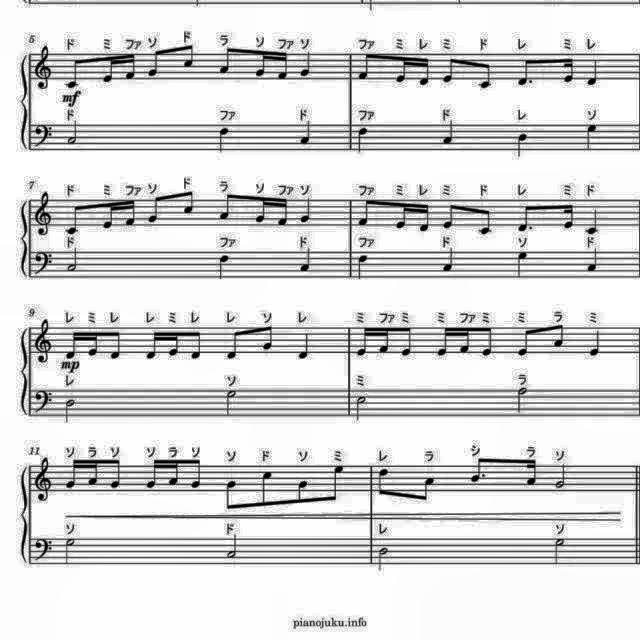Bass-clef: (30, 122, 54, 152), (30, 250, 54, 280), (31, 383, 54, 413), (31, 536, 54, 564)
Eighth-note: (324, 462, 348, 506), (258, 468, 278, 512), (224, 325, 246, 363), (514, 55, 538, 89), (220, 478, 242, 514), (63, 201, 85, 237), (63, 54, 85, 90), (416, 472, 439, 506), (468, 455, 492, 485), (515, 202, 537, 234), (515, 325, 535, 359), (476, 59, 496, 92), (106, 326, 124, 362), (376, 464, 394, 500), (144, 195, 164, 227), (215, 192, 235, 224), (476, 206, 496, 238), (292, 477, 312, 508), (190, 328, 207, 364), (214, 46, 233, 78), (441, 200, 459, 232), (441, 54, 459, 86), (107, 458, 125, 490), (145, 48, 163, 80), (164, 460, 182, 492), (188, 460, 206, 492), (356, 197, 374, 229), (357, 52, 375, 84), (182, 189, 200, 219), (259, 325, 277, 355), (434, 328, 450, 360), (398, 324, 414, 356), (480, 326, 496, 358), (182, 44, 200, 72), (550, 321, 568, 349)
Half-note: (551, 534, 569, 566), (512, 386, 530, 418), (222, 534, 242, 562), (223, 388, 241, 419), (354, 394, 371, 426), (553, 462, 571, 492), (375, 543, 393, 573), (65, 248, 83, 276), (354, 126, 372, 154), (62, 535, 78, 565), (66, 120, 82, 148), (62, 396, 78, 424)
Quarter-note: (294, 331, 314, 362), (584, 120, 602, 152), (585, 57, 603, 89), (440, 118, 460, 146), (587, 327, 605, 358), (298, 196, 316, 226), (584, 205, 602, 235), (514, 251, 532, 281), (298, 50, 316, 80), (585, 248, 603, 276), (514, 130, 532, 158), (296, 248, 314, 276), (214, 252, 232, 280), (441, 248, 459, 276), (296, 118, 314, 146), (214, 126, 232, 154), (354, 252, 371, 280), (634, 52, 640, 82), (635, 325, 640, 359), (635, 196, 640, 228), (639, 325, 640, 359), (639, 196, 640, 228)
Sixteenth-note: (142, 326, 162, 362), (96, 52, 115, 88), (353, 322, 371, 358), (416, 200, 434, 236), (522, 456, 542, 488), (122, 196, 140, 230), (143, 458, 161, 492), (99, 199, 117, 233), (392, 198, 410, 232), (393, 54, 411, 88), (418, 54, 434, 90), (274, 197, 292, 229), (63, 327, 81, 359), (560, 54, 578, 86), (85, 460, 102, 492), (64, 457, 80, 491), (85, 328, 102, 360), (124, 52, 140, 84), (276, 50, 292, 82), (377, 325, 393, 355), (560, 201, 576, 231), (252, 50, 268, 80), (252, 196, 268, 226), (166, 329, 182, 359), (458, 325, 472, 355)
Treble-clef: (30, 45, 54, 95), (31, 318, 54, 369), (31, 190, 54, 238), (32, 454, 54, 504)
